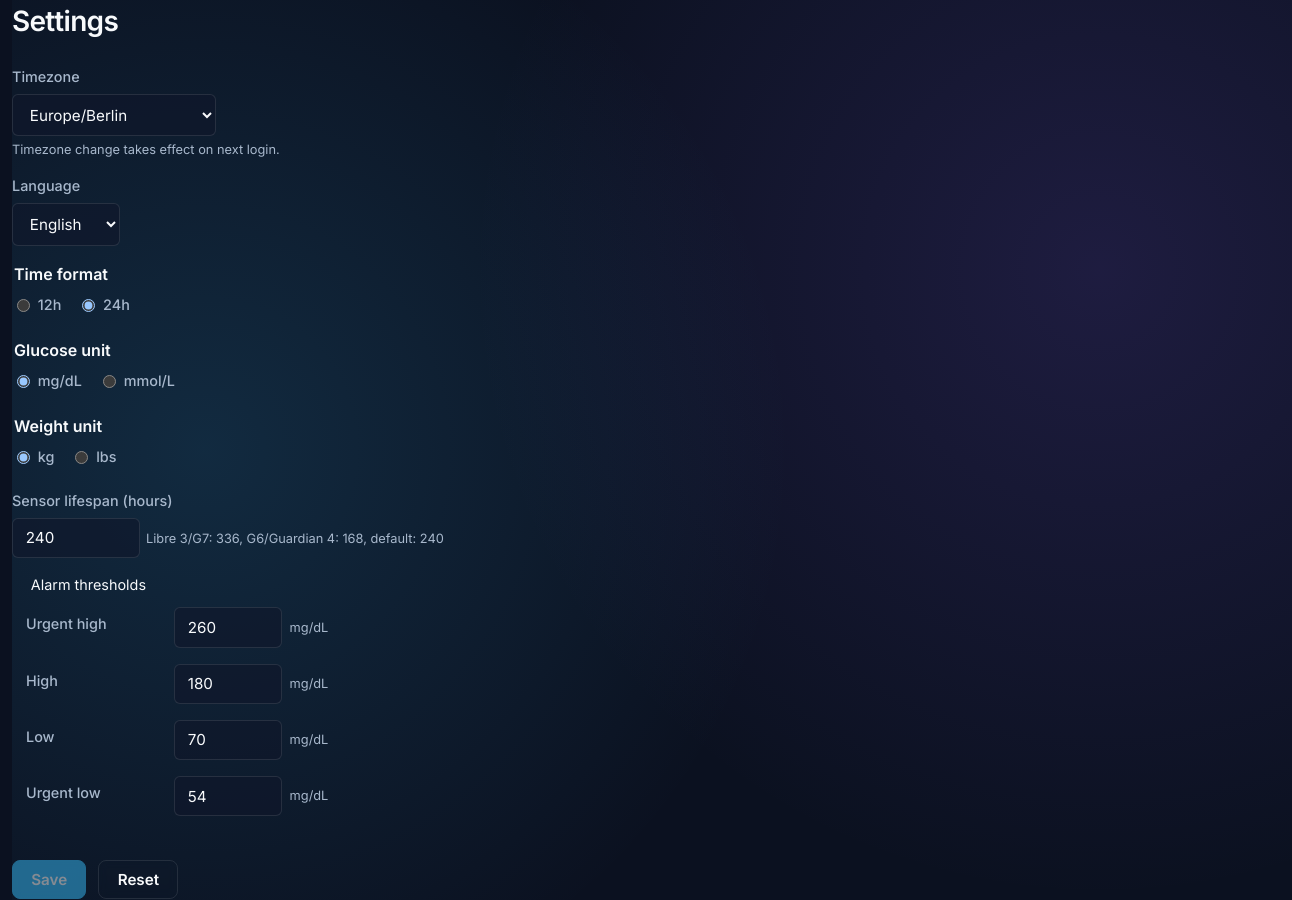
Test case: UserSettings › shows success toast after successful save
Select "UTC" in the dropdown labelled "Timezone": x=114, y=115 x1=12 y1=94 x2=216 y2=136
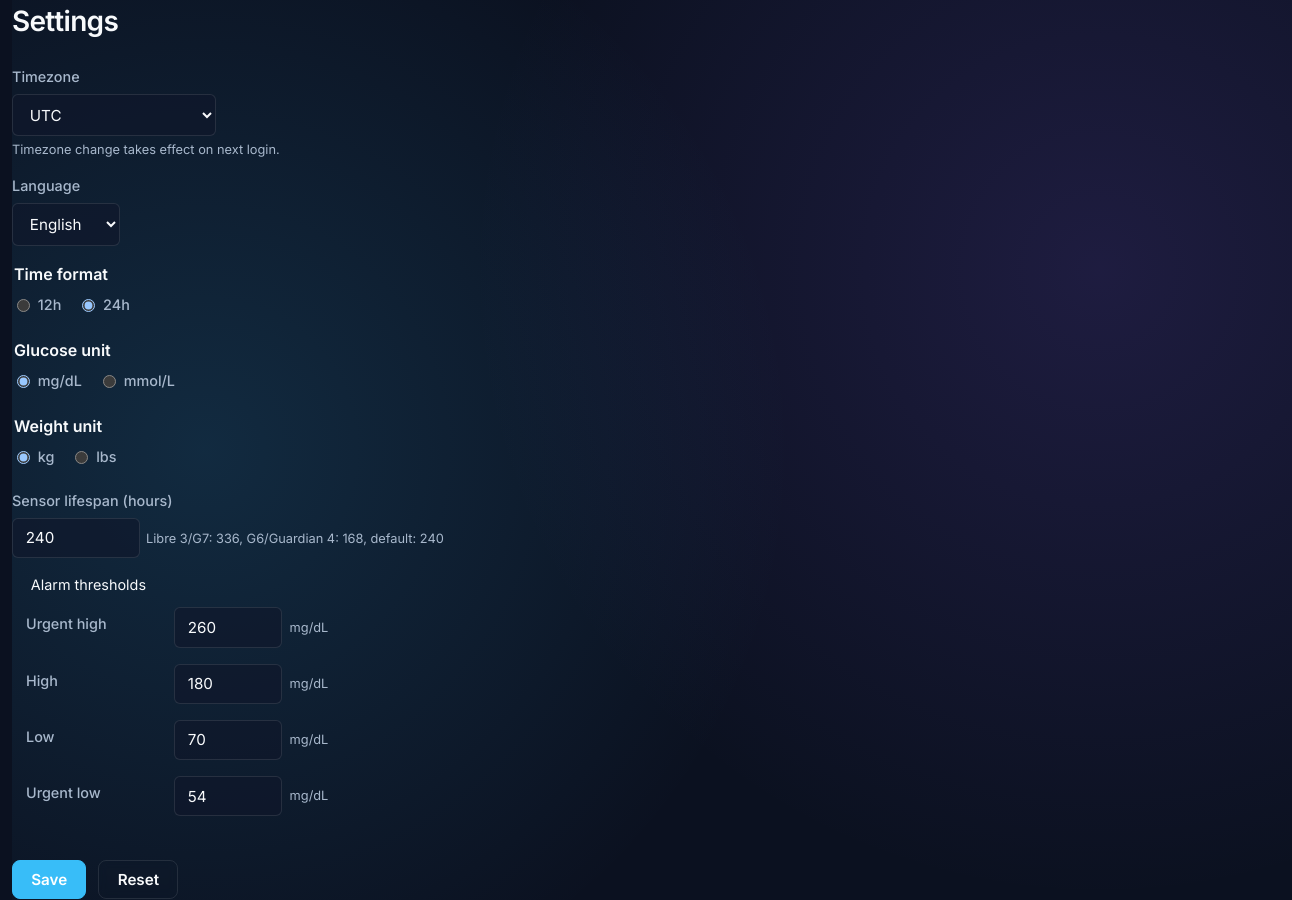
Click the button "Save": x=49, y=880 x1=12 y1=860 x2=86 y2=899
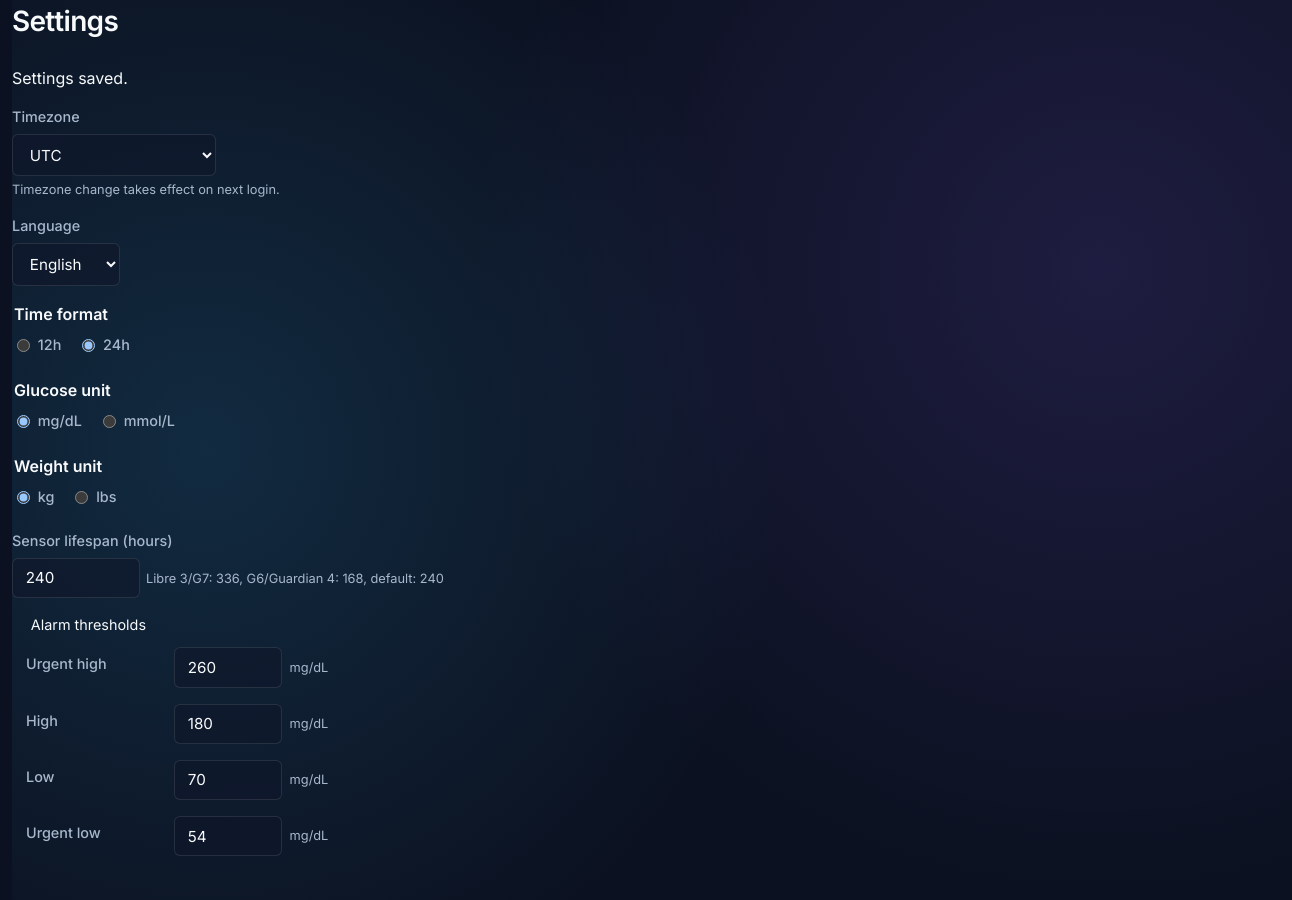
Expected: the message shows "saved", x1=12 y1=68 x2=128 y2=88
